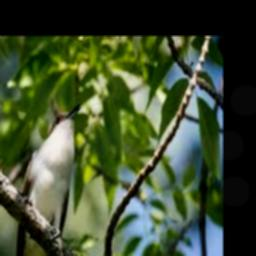Cuckoo: (16, 103, 83, 256)
